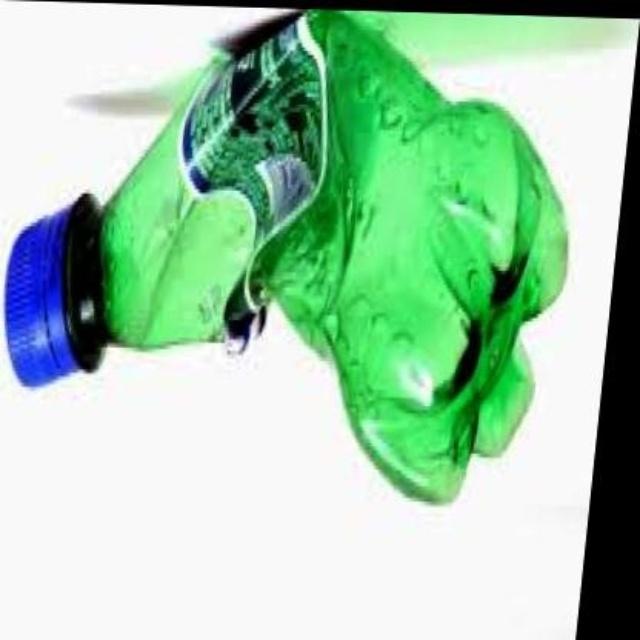trash: (5, 12, 566, 502)
